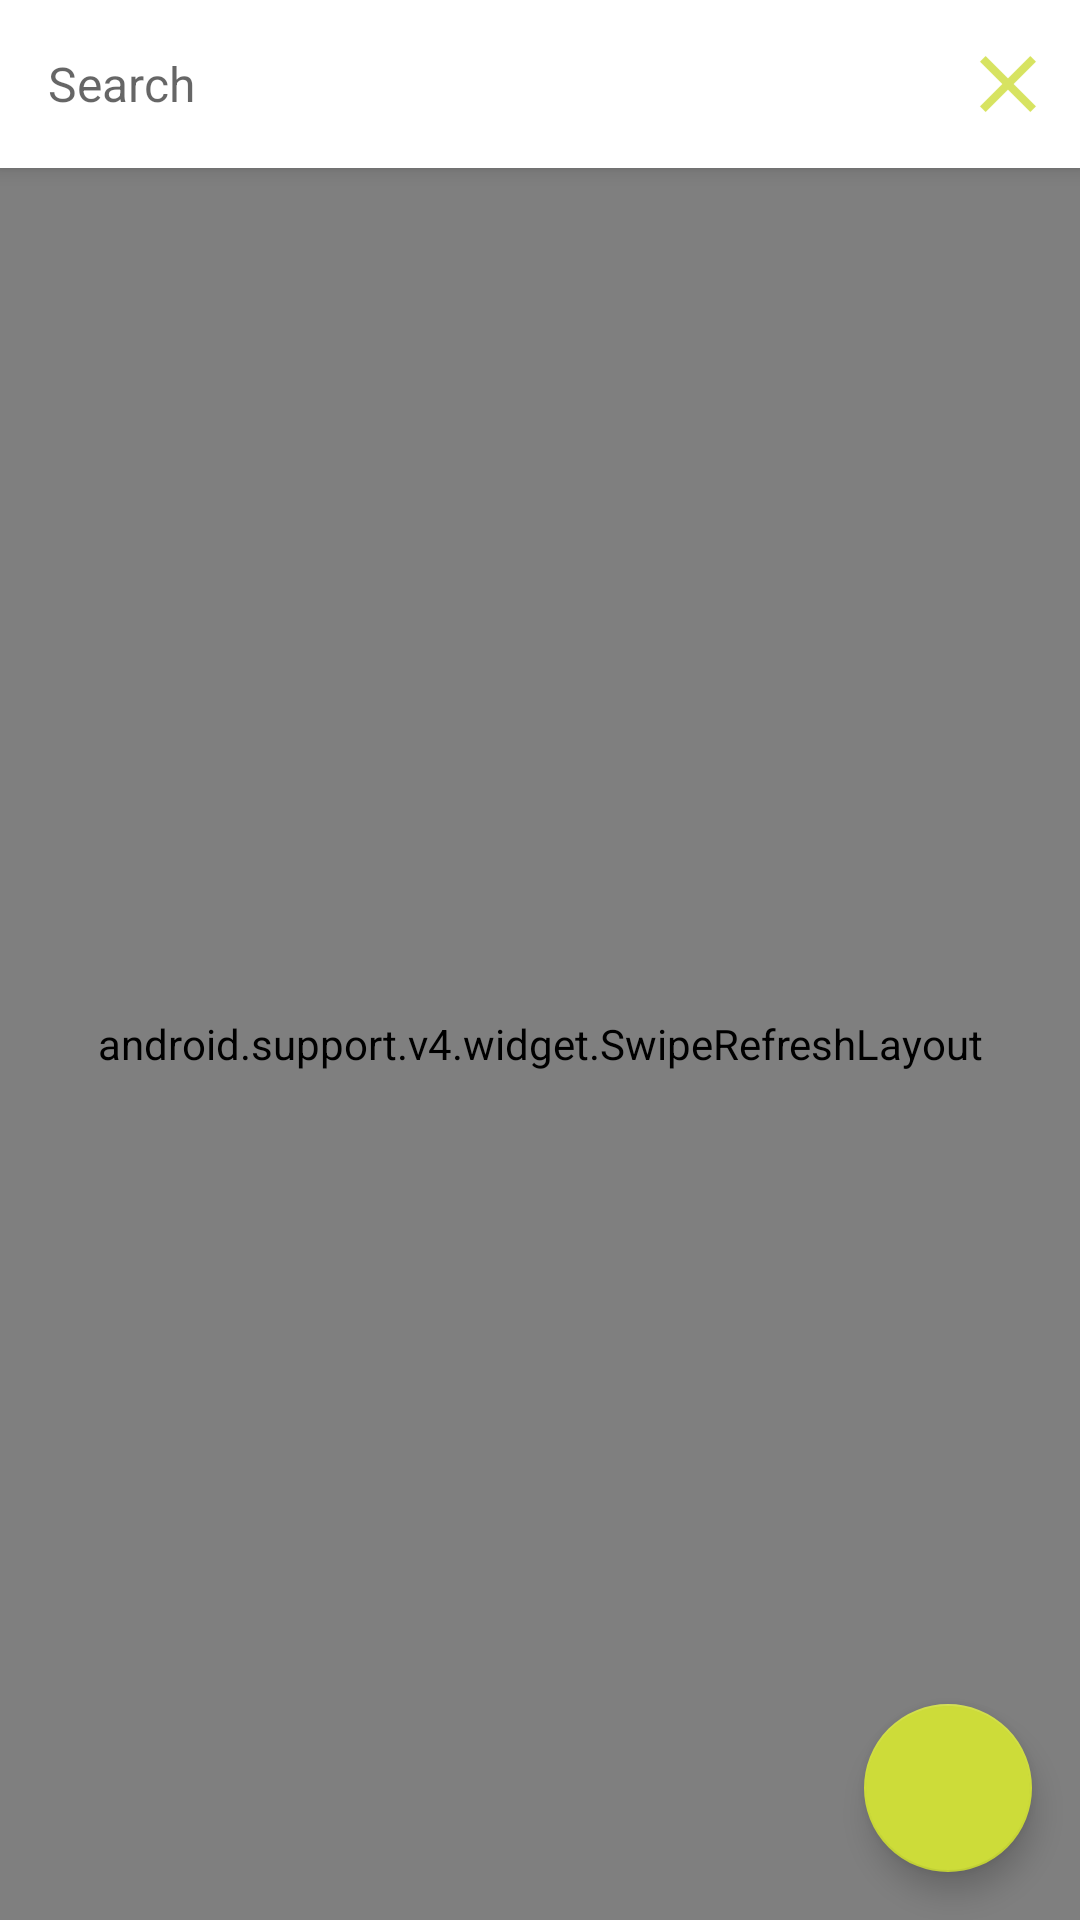

Icon click points for this 1080 × 1920 phone screenshot, format point (x, y):
cancel: point (1008, 84)
